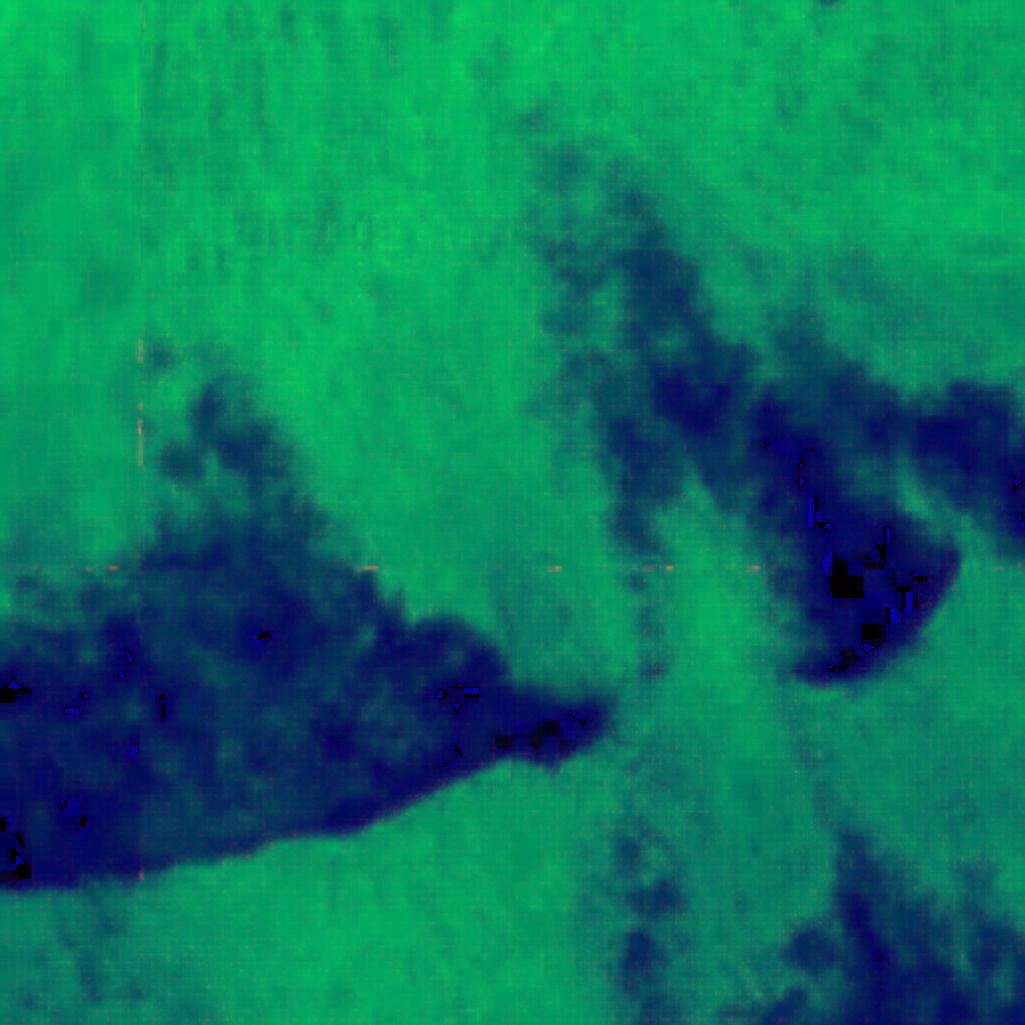rip_current: (124, 168, 772, 728)
